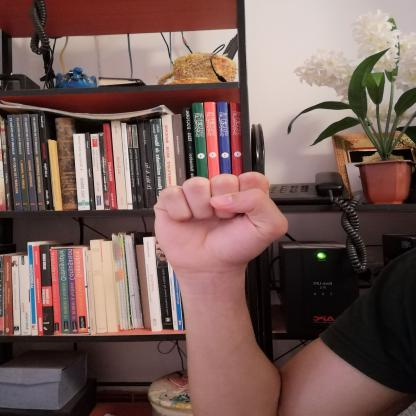SAD: (144, 160, 304, 278)
